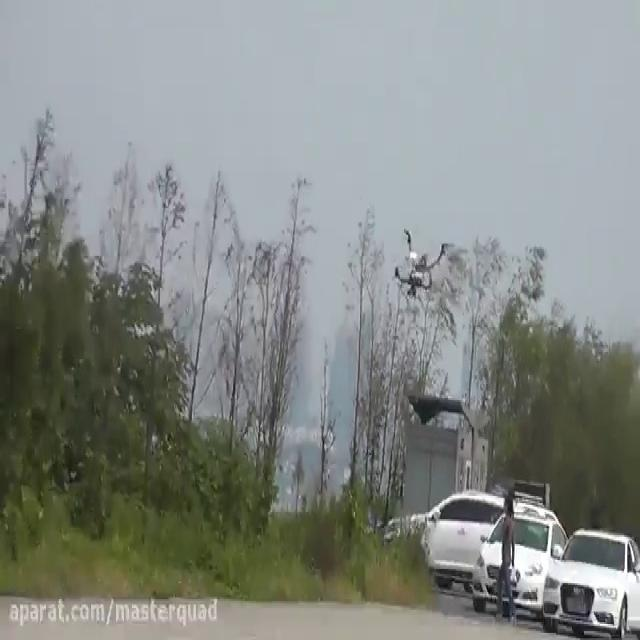drone: (388, 222, 455, 299)
